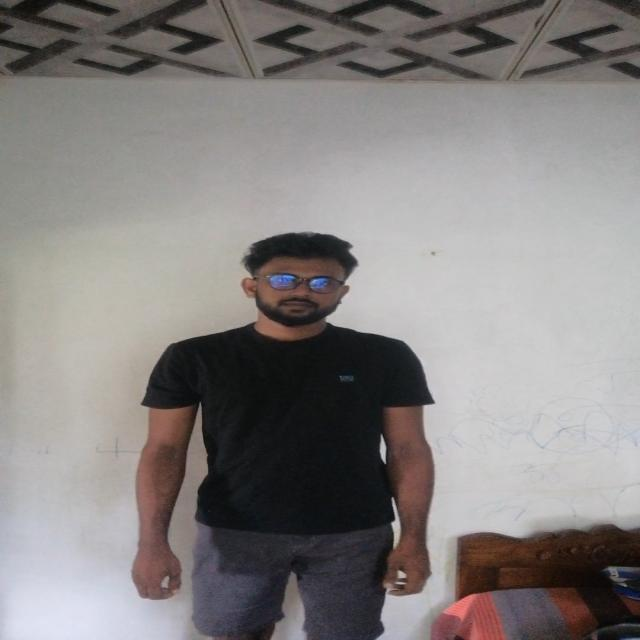Person: (123, 223, 452, 640)
